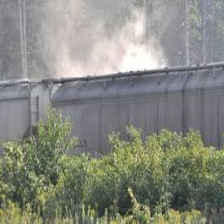smoke: (50, 16, 170, 69)
